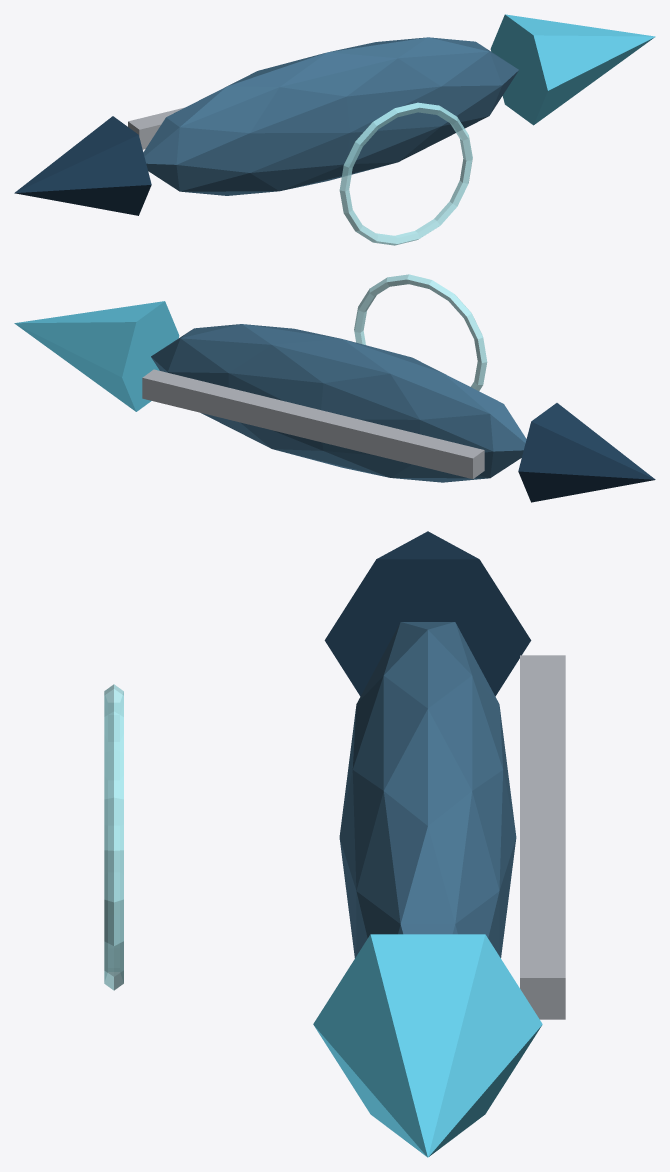
File: 05_skyship_hull.glb
The picture shows the model from 3 angles, top to bottom: view 1: azimuth 30°, elevation 25°; view 2: azimuth 150°, elevation 25°; view 3: azimuth 270°, elevation 25°; orthographic projection. The views are drawn at different scales.
Visible parts, largest first — view 1: hull_low_poly, bow_upgrade, stern_fin, size_class_ring, keel_plate; view 2: hull_low_poly, keel_plate, bow_upgrade, stern_fin, size_class_ring; view 3: hull_low_poly, bow_upgrade, stern_fin, keel_plate, size_class_ring.
Part boxes in pixels (x1,y1,x2,y2): hull_low_poly: (143,37,518,195); bow_upgrade: (490,14,655,125); stern_fin: (14,116,151,215); size_class_ring: (339,102,472,245); keel_plate: (128,107,184,149); hull_low_poly: (151,324,526,482); keel_plate: (142,369,484,478); bow_upgrade: (14,301,179,411); stern_fin: (518,403,655,502); size_class_ring: (354,274,487,390); hull_low_poly: (339,622,516,957); bow_upgrade: (313,934,542,1157); stern_fin: (324,531,531,696); keel_plate: (520,655,565,1019); size_class_ring: (104,684,123,990).
Size of the model in its own units: 3.87 by 0.7918 by 1.21.
